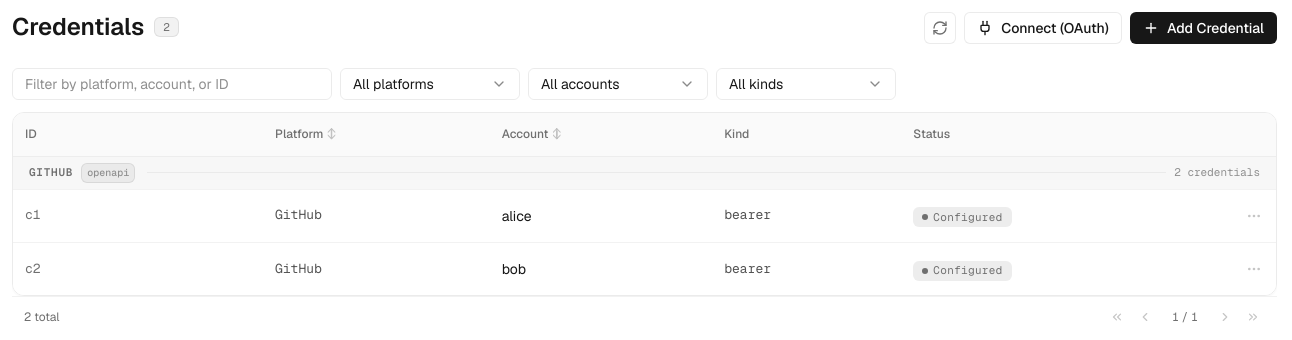
Scenario: CredentialsPage › search filters credentials by account (case-insensitive)
Step 1. Type "alice" into the search field named "search" → (172, 84), box [12,68,332,100]
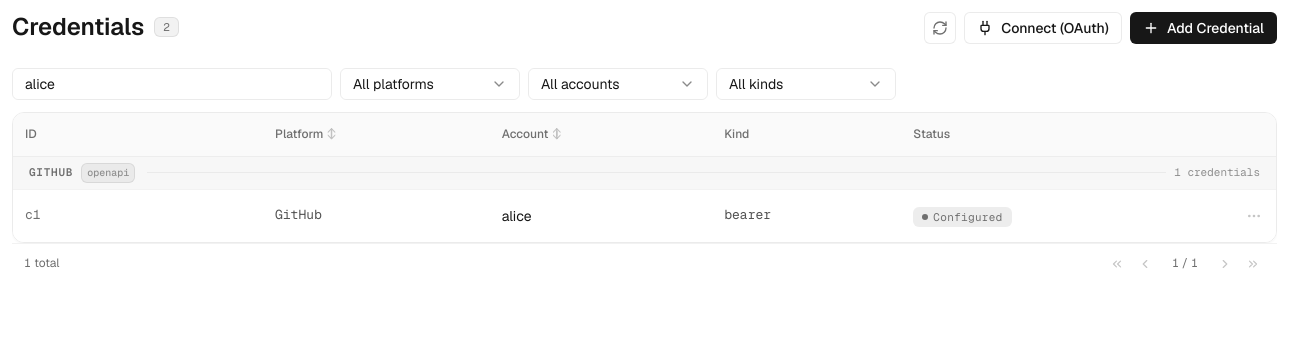
expect the text "bob" is not shown: met
